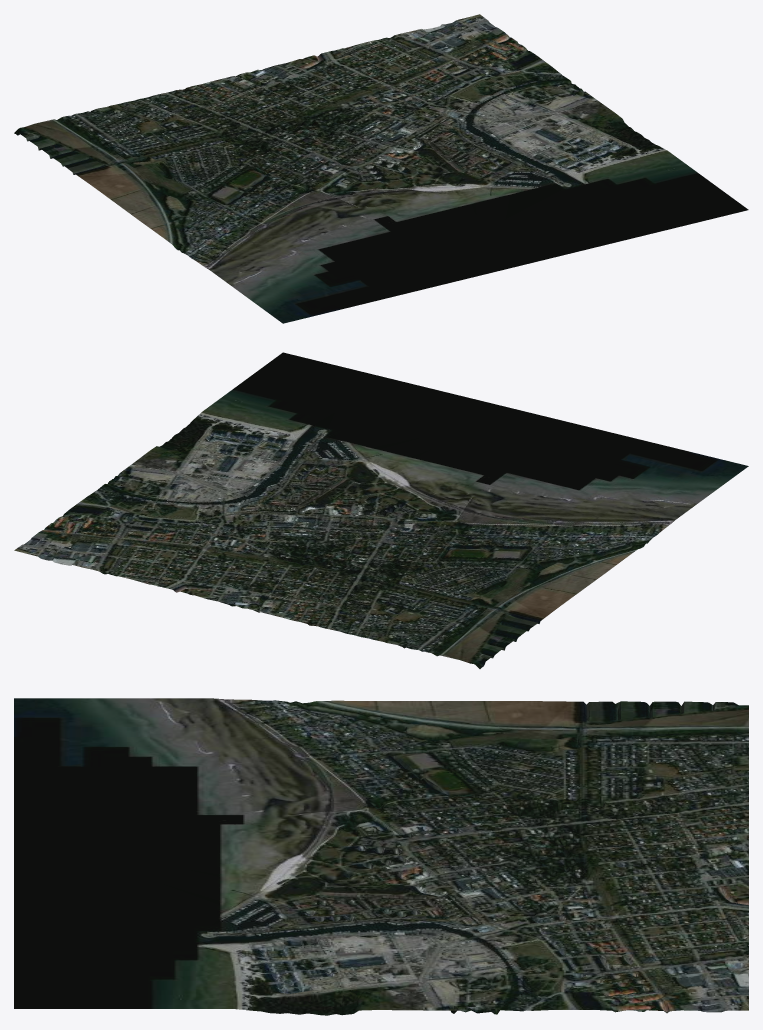
The model's file is map_10_254_427.dae.
The picture shows the model from 3 angles, top to bottom: view 1: azimuth 30°, elevation 25°; view 2: azimuth 150°, elevation 25°; view 3: azimuth 270°, elevation 25°; orthographic projection. The views are drawn at different scales.
Parts seen in each view (by area): view 1: Ter0; view 2: Ter0; view 3: Ter0.
Part boxes in pixels (x1,y1,x2,y2): Ter0: (14, 14, 748, 323); Ter0: (14, 352, 748, 668); Ter0: (14, 698, 748, 1015).
Bounding box in the file's own units: 2044 × 2044 × 27.83.
3 materials, 3 textured.
